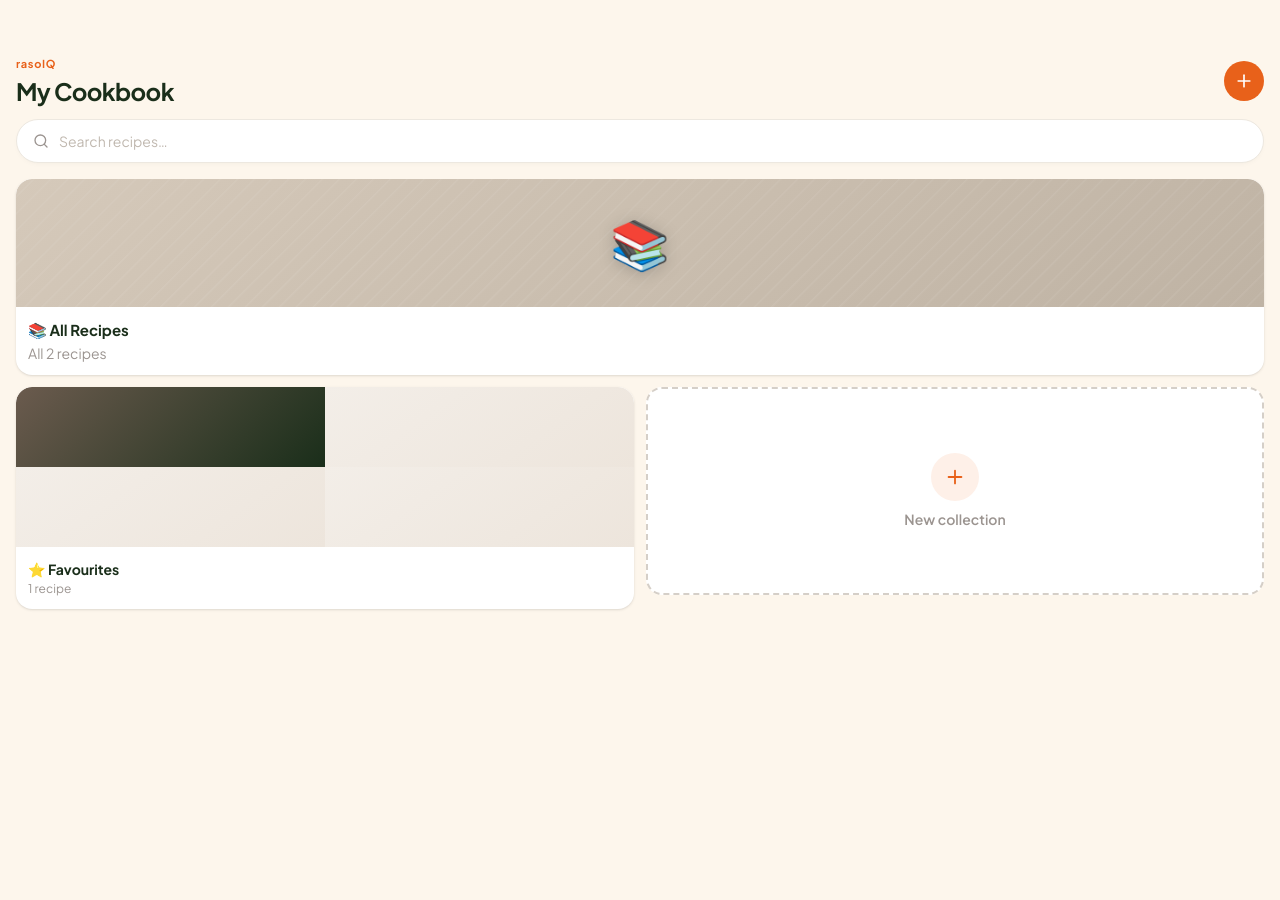
Test: SavedRecipes (My Cookbook) › tapping a collection opens it and shows matching recipes
Expected: the text "⭐ Favourites" is shown, left=28, top=560, right=119, bottom=578
Click the collection button
Click the button "⭐ Favourites 1 recipe" at {"x": 325, "y": 498}, box left=16, top=387, right=634, bottom=609
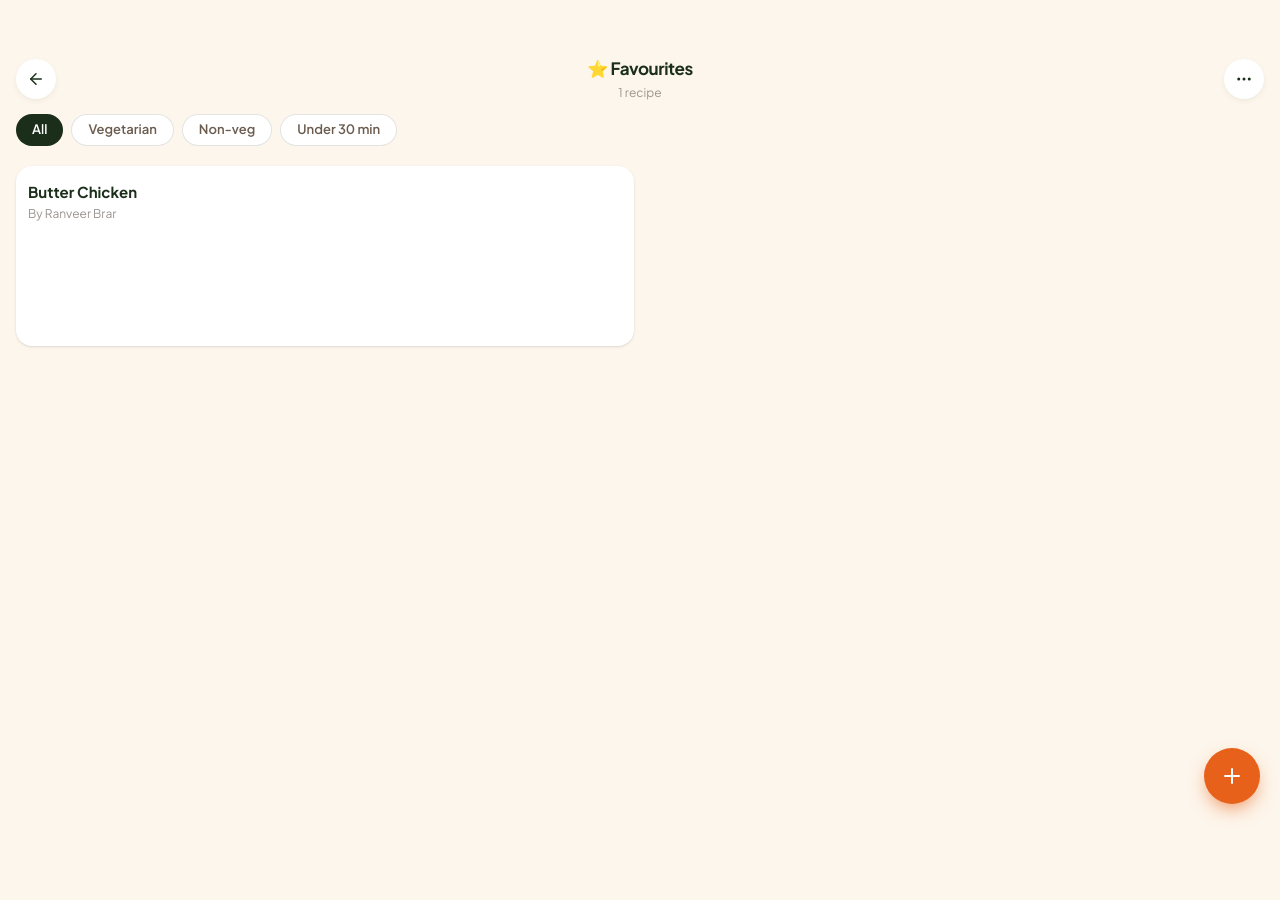
Result: the text "Butter Chicken" is shown at left=28, top=182, right=137, bottom=202
